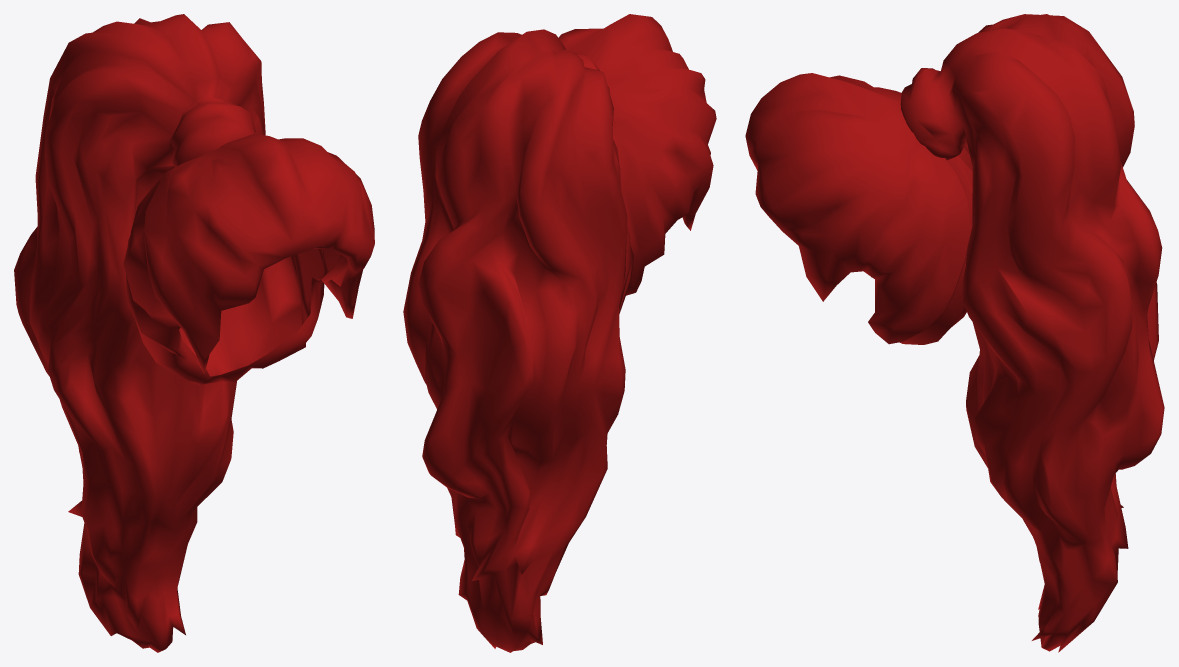
File: Renderer_Hair.fbx
The picture shows the model from 3 angles, left to right: view 1: azimuth 30°, elevation 25°; view 2: azimuth 150°, elevation 25°; view 3: azimuth 270°, elevation 25°; orthographic projection. The views are drawn at different scales.
Visible parts, largest first — view 1: Renderer_Hair; view 2: Renderer_Hair; view 3: Renderer_Hair.
Part boxes in pixels (x1=…): Renderer_Hair: x1=14, y1=14, x2=374, y2=652; Renderer_Hair: x1=403, y1=14, x2=716, y2=652; Renderer_Hair: x1=745, y1=14, x2=1164, y2=652.
Bounding box in the file's own units: 19.24 × 55.25 × 33.54.
